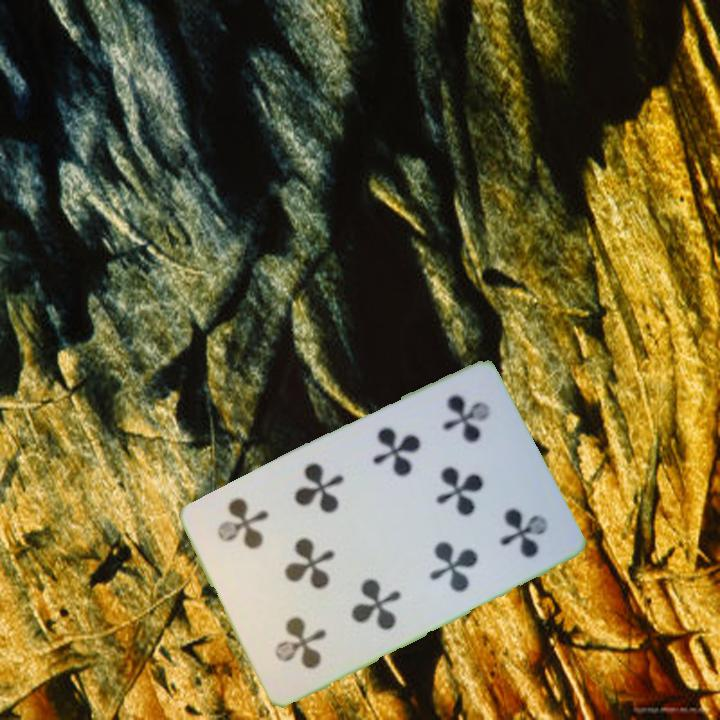c_10.png: (404, 371, 524, 498), (238, 564, 358, 690)
